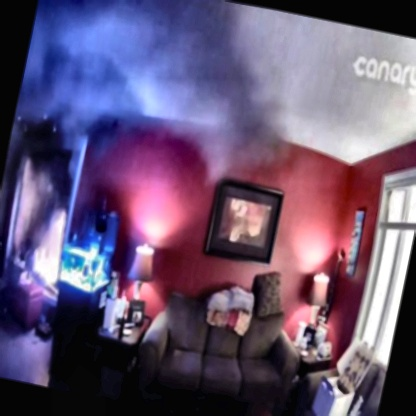smoke: (12, 0, 307, 186)
